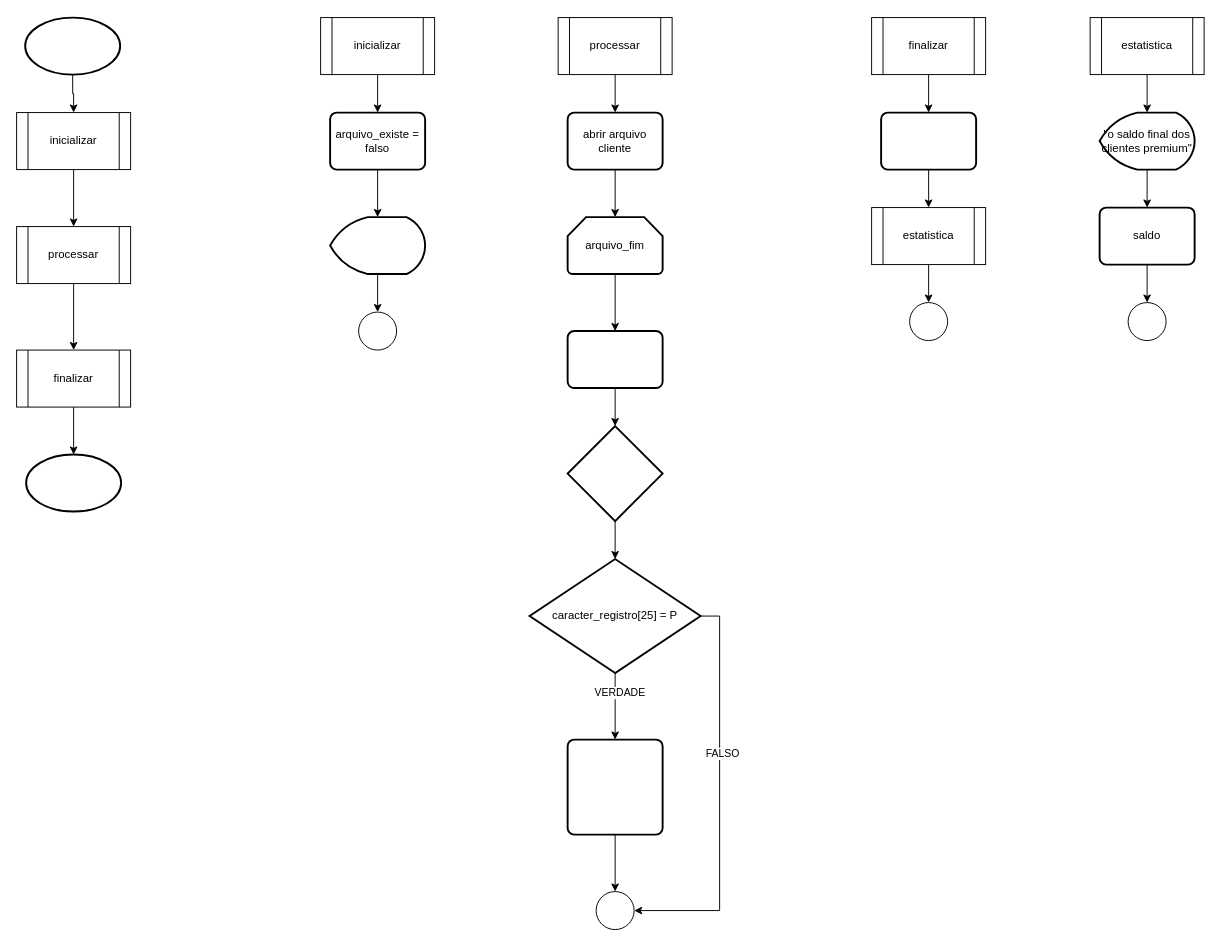
Image size: 1221x946. Some labels were removed from this diagram. The centre of each missing label's shape, as x and y in pixels:
"Arquivo nao existe": point (377, 245)
fechar_arquivo: point (928, 140)
fim: point (73, 482)
inicio: point (72, 45)
ler_linha: point (614, 359)
qt>0: point (614, 473)
registro: point (614, 786)
